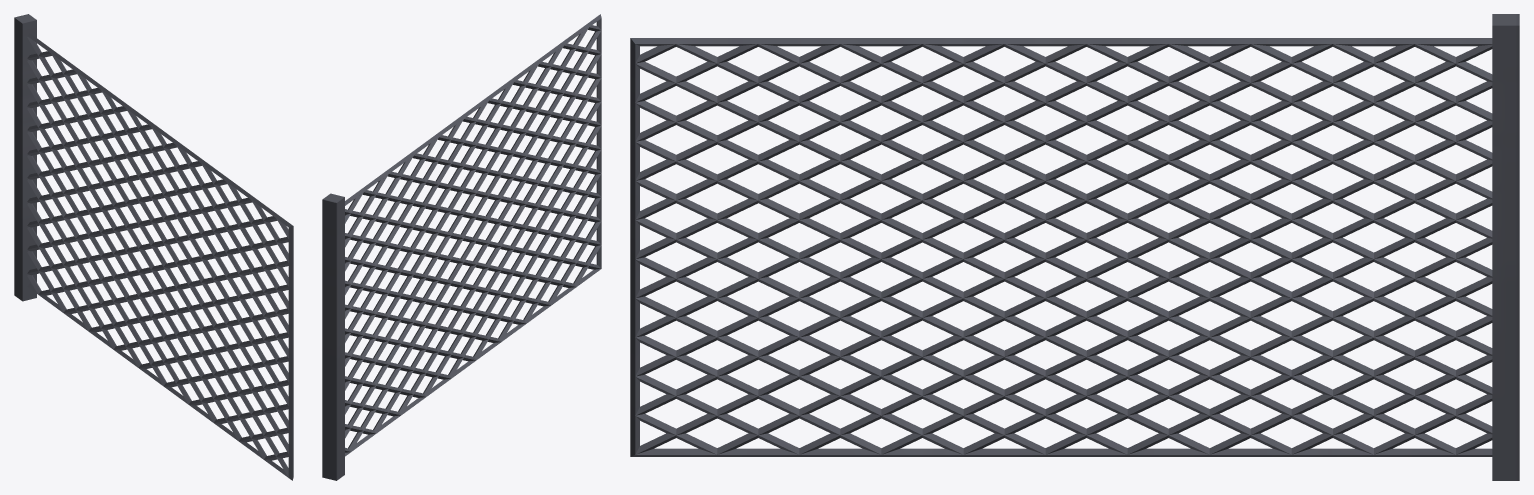
File: Fence 1.fbx
3 views of the same model, side by side, from view 1: azimuth 30°, elevation 25°; view 2: azimuth 150°, elevation 25°; view 3: azimuth 270°, elevation 25° (orthographic). The views are drawn at different scales.
Visible parts, largest first — view 1: fence.002; view 2: fence.002; view 3: fence.002.
Boxes of the visible parts, bbox=[...] form: fence.002: bbox=[14, 14, 293, 480]; fence.002: bbox=[322, 14, 601, 480]; fence.002: bbox=[630, 14, 1519, 480].
Size of the model in its own units: 21.7 by 400 by 708.
